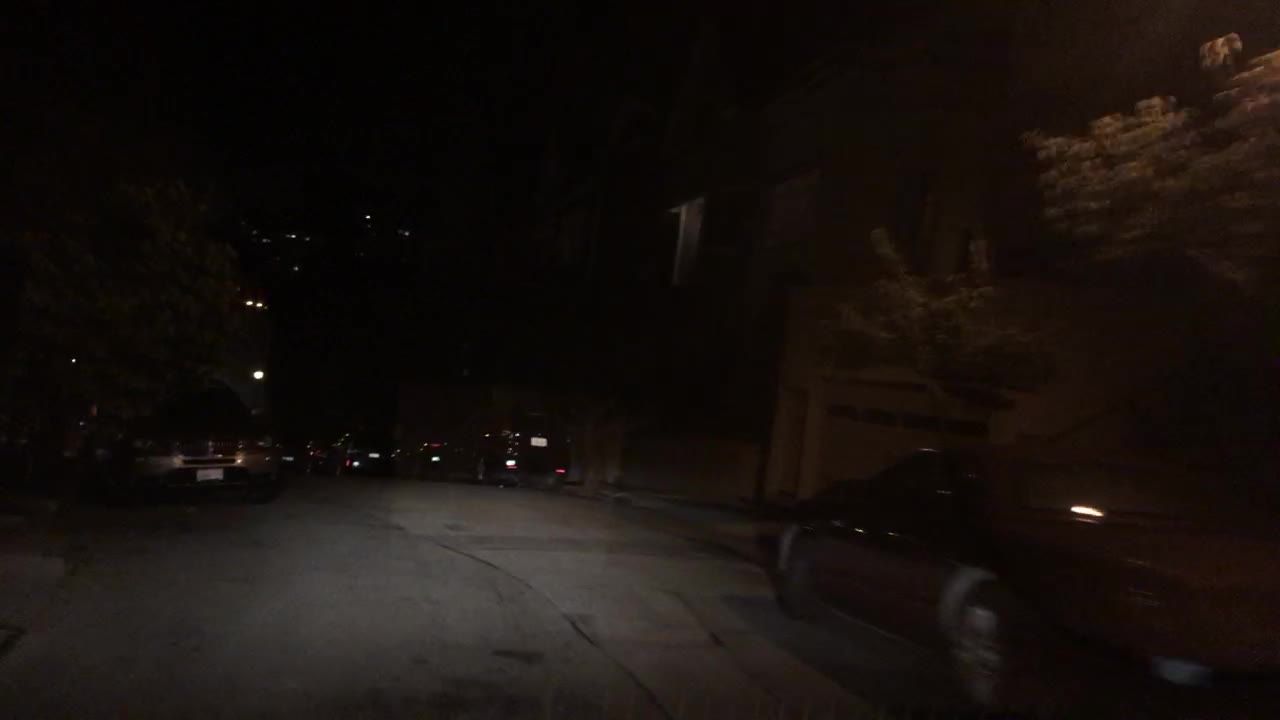car: (767, 442, 1276, 717), (0, 371, 276, 507), (473, 417, 571, 488), (396, 424, 478, 482), (319, 430, 401, 480), (301, 433, 340, 472)
